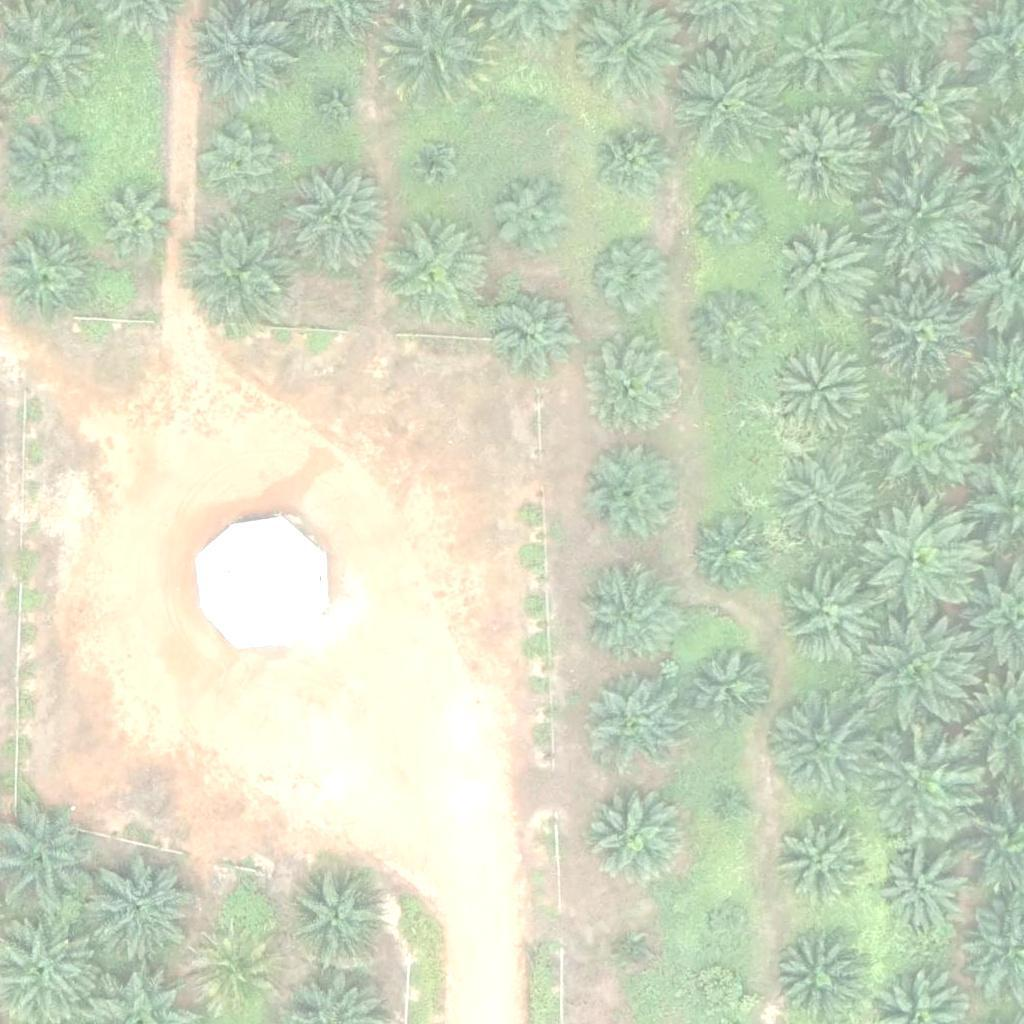Kelapa_Sawit: (669, 39, 782, 153), (764, 690, 877, 804), (88, 853, 201, 967), (187, 2, 300, 115), (187, 215, 300, 328), (868, 161, 981, 274), (869, 278, 982, 391), (866, 54, 978, 168), (379, 215, 491, 329), (864, 618, 976, 732), (867, 724, 979, 838), (280, 165, 392, 278), (864, 387, 976, 500), (863, 508, 975, 621), (577, 562, 677, 663), (769, 111, 869, 212), (775, 223, 875, 324), (770, 341, 870, 442), (585, 673, 685, 774), (583, 781, 683, 882), (285, 868, 385, 969), (777, 6, 877, 106), (587, 336, 687, 436), (582, 443, 682, 543), (780, 455, 880, 555), (782, 568, 882, 668), (3, 233, 91, 322), (496, 288, 584, 376), (191, 931, 279, 1019), (199, 123, 286, 211), (490, 173, 577, 261), (589, 123, 676, 211), (586, 232, 673, 320), (688, 287, 775, 375), (880, 847, 967, 935), (780, 814, 867, 902), (686, 643, 773, 731), (12, 133, 87, 209), (693, 515, 768, 591), (98, 184, 173, 259), (691, 179, 766, 254), (314, 81, 364, 132), (408, 137, 458, 188), (505, 74, 555, 124), (711, 906, 749, 944), (724, 791, 749, 816), (620, 941, 645, 966)
